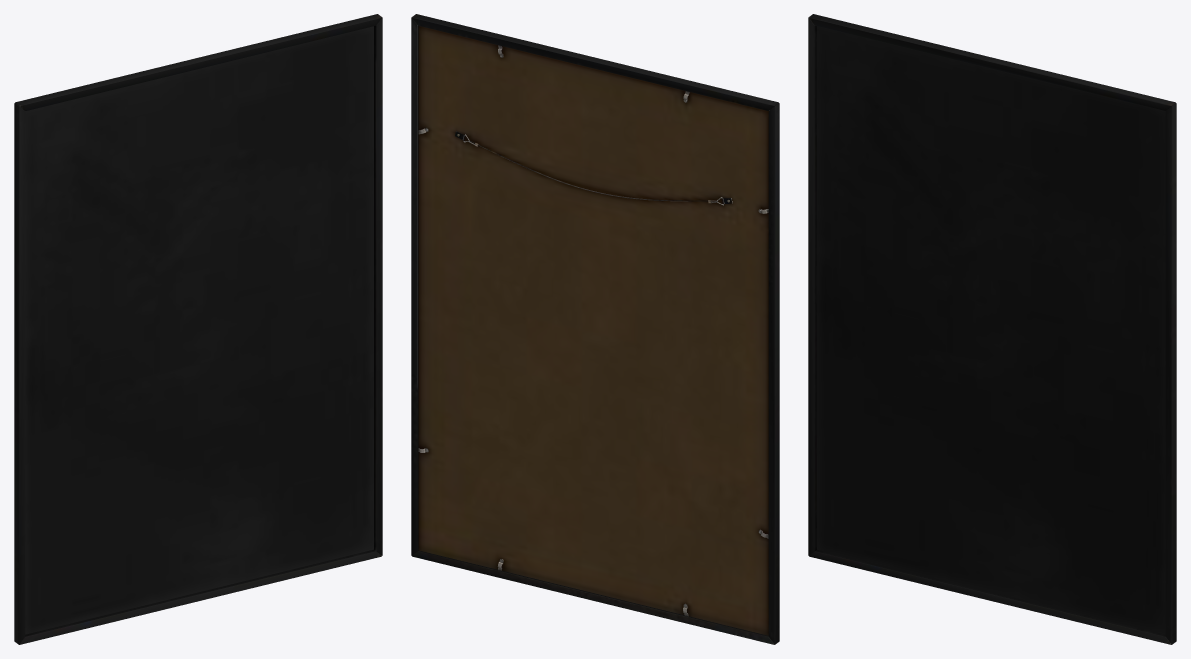
File: hanging_picture_frame_01.glb
3 renders of one model, left to right at view 1: azimuth 30°, elevation 25°; view 2: azimuth 150°, elevation 25°; view 3: azimuth 330°, elevation 25°, orthographic.
Parts seen in each view (by area): view 1: hanging_picture_frame_01; view 2: hanging_picture_frame_01; view 3: hanging_picture_frame_01.
Part boxes in pixels (box(x1,y1,x2,y2)): hanging_picture_frame_01: box(14, 14, 382, 644); hanging_picture_frame_01: box(411, 14, 779, 644); hanging_picture_frame_01: box(808, 14, 1176, 644).
Bounding box in the file's own units: 0.594 × 0.841 × 0.0157.
Materials: 1 (1 with a texture image).
